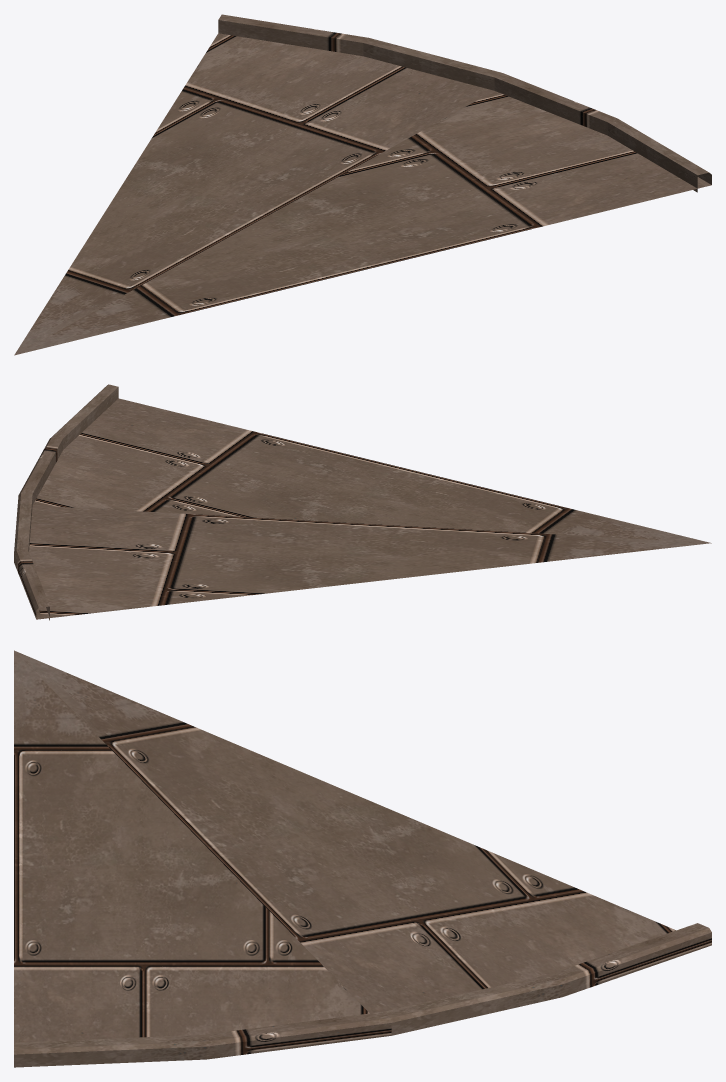
The model's file is SM_O_TopCapSlice.FBX.
3 views of the same model, one above another, from view 1: azimuth 30°, elevation 25°; view 2: azimuth 150°, elevation 25°; view 3: azimuth 270°, elevation 25° (orthographic). The views are drawn at different scales.
Parts seen in each view (by area): view 1: Object068; view 2: Object068; view 3: Object068.
Boxes of the visible parts, x1,y1,x2,y2 form: Object068: [14, 14, 711, 355]; Object068: [14, 384, 711, 620]; Object068: [14, 650, 711, 1067].
Bounding box in the file's own units: 330 × 7.86 × 233.
